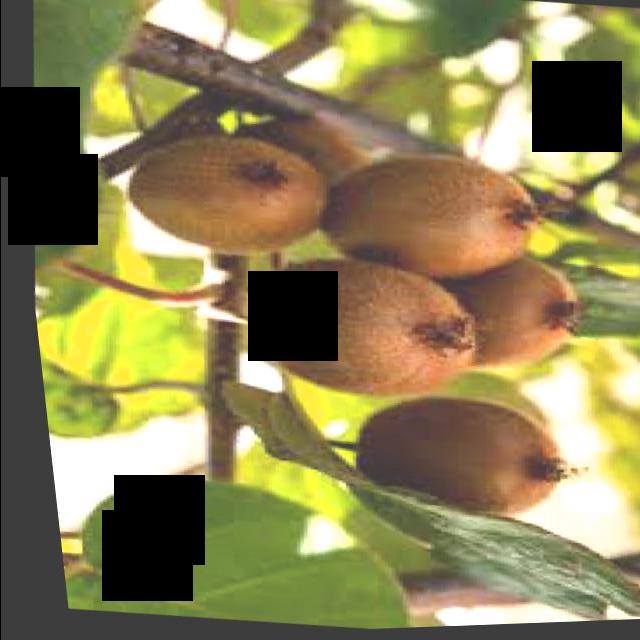kiwi: (226, 252, 475, 407), (329, 385, 567, 535), (320, 127, 534, 280), (110, 123, 326, 267)
